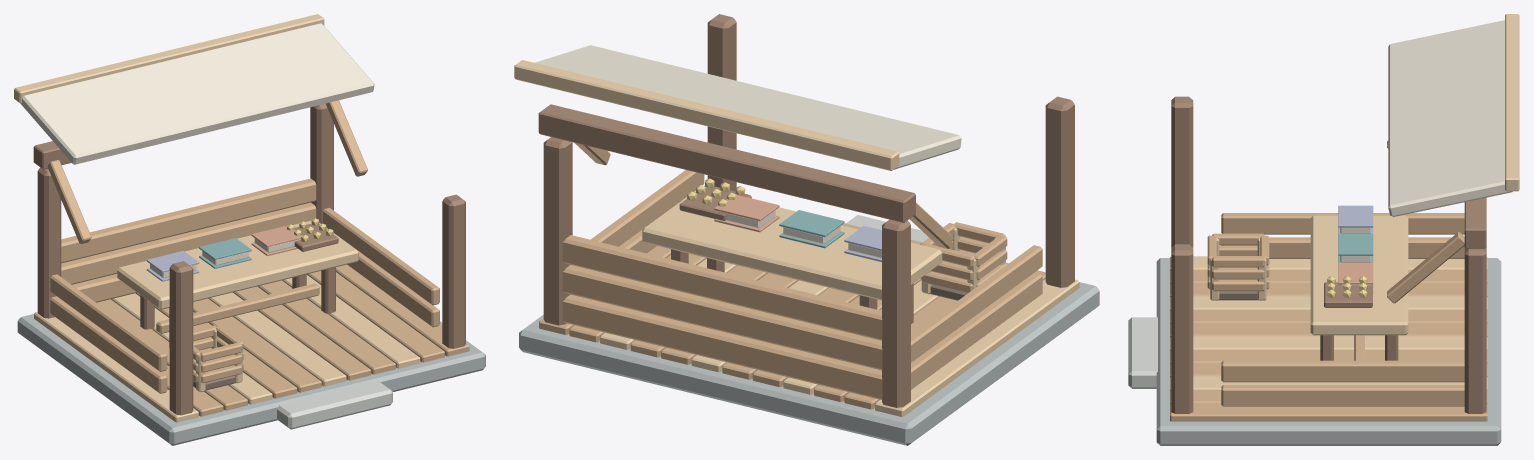
The model's file is accounting_tent.fbx.
3 views of the same model, side by side, from view 1: azimuth 30°, elevation 25°; view 2: azimuth 150°, elevation 25°; view 3: azimuth 270°, elevation 25° (orthographic). The views are drawn at different scales.
Visible parts, largest first — view 1: accounting_tent_mesh; view 2: accounting_tent_mesh; view 3: accounting_tent_mesh.
Part boxes in pixels (bbox=[...]): accounting_tent_mesh: bbox=[14, 14, 485, 445]; accounting_tent_mesh: bbox=[514, 14, 1099, 445]; accounting_tent_mesh: bbox=[1128, 14, 1519, 445].
Bounding box in the file's own units: 3.32 × 2.4 × 3.2.
